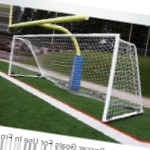goals: (8, 33, 145, 123)
